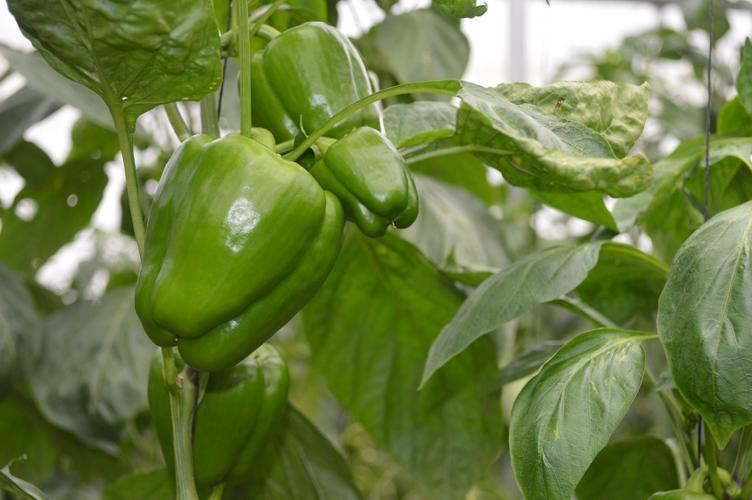BellPepper: (129, 149, 344, 369), (137, 343, 301, 485), (233, 28, 385, 137), (309, 130, 432, 238)
